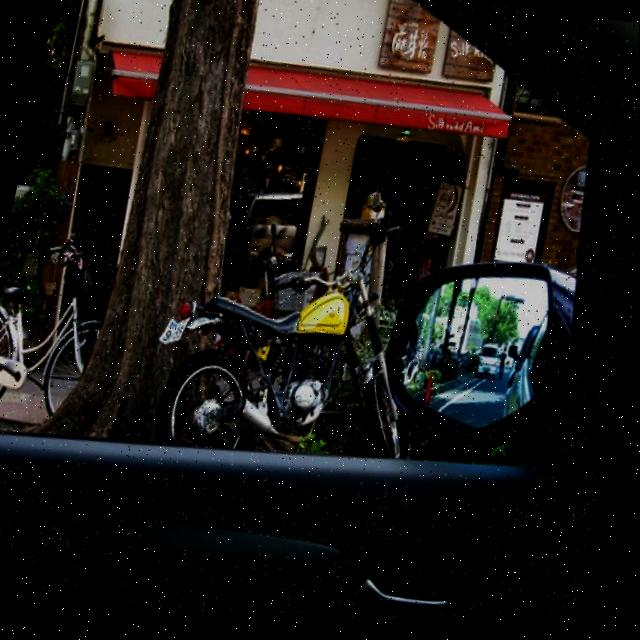motorcycle: (135, 201, 449, 498)
